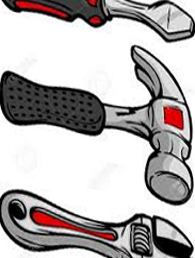Wrench: (7, 164, 195, 258)
